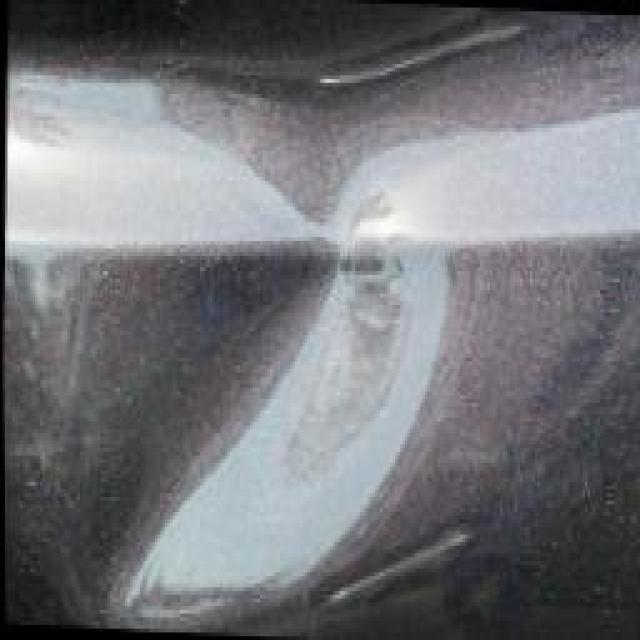Door: (0, 30, 640, 640)
